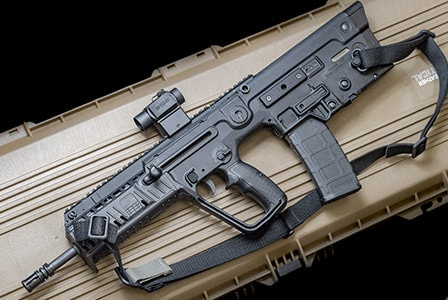ak47: (22, 4, 393, 293)
